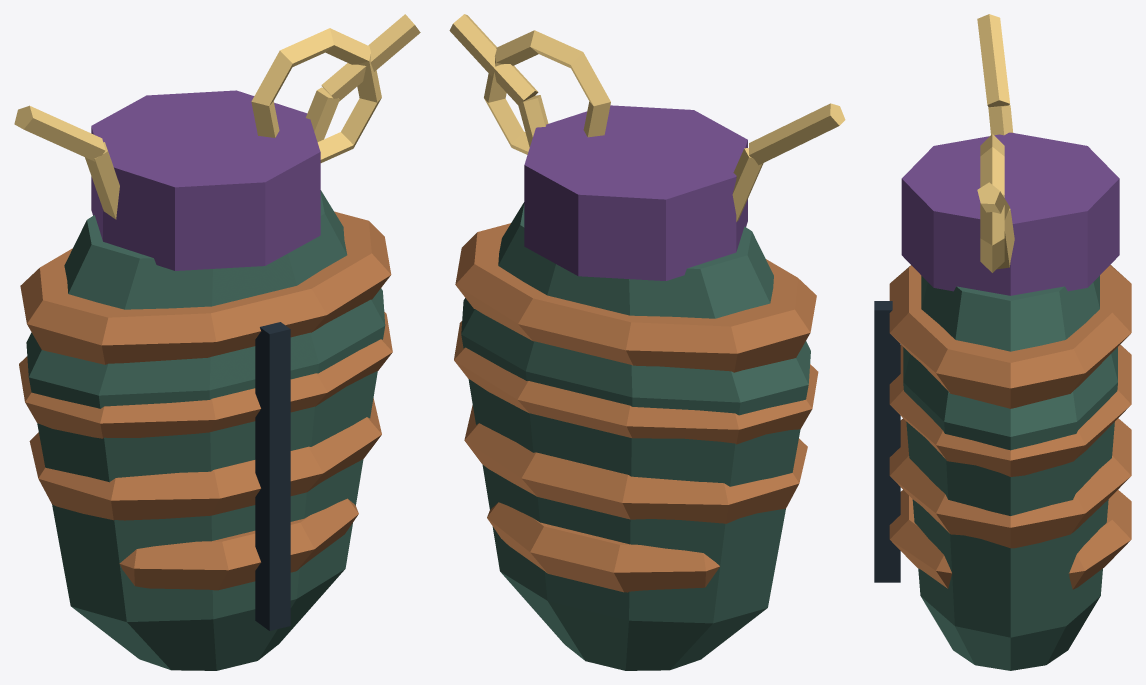
File: roach.glb
The picture shows the model from 3 angles, left to right: view 1: azimuth 30°, elevation 25°; view 2: azimuth 150°, elevation 25°; view 3: azimuth 270°, elevation 25°; orthographic projection. The views are drawn at different scales.
Parts seen in each view (by area): view 1: Carapace, Fuse cap.002, Amber plate.003, Amber plate.001, Amber plate.002, Wing seam, Amber plate, Pull ring.002, Antenna.003, Antenna.001, Antenna, Antenna.002; view 2: Carapace, Fuse cap.002, Amber plate.003, Amber plate.001, Amber plate.002, Amber plate, Pull ring.002, Antenna.001, Antenna.003, Antenna, Antenna.002; view 3: Carapace, Fuse cap.002, Amber plate.003, Amber plate.001, Amber plate.002, Wing seam, Amber plate, Pull ring.002, Antenna.001, Antenna.003, Antenna, Antenna.002.
Part boxes in pixels (bbox=[...]): Carapace: bbox=[26, 190, 385, 670]; Fuse cap.002: bbox=[91, 90, 320, 270]; Amber plate.003: bbox=[20, 211, 391, 364]; Amber plate.001: bbox=[29, 398, 381, 520]; Amber plate.002: bbox=[19, 312, 392, 438]; Wing seam: bbox=[255, 322, 290, 630]; Amber plate: bbox=[119, 498, 358, 590]; Pull ring.002: bbox=[251, 28, 381, 162]; Antenna.003: bbox=[321, 14, 420, 101]; Antenna.001: bbox=[14, 105, 105, 161]; Antenna: bbox=[85, 142, 119, 219]; Antenna.002: bbox=[306, 87, 339, 141]; Carapace: bbox=[461, 202, 810, 670]; Fuse cap.002: bbox=[524, 105, 747, 280]; Amber plate.003: bbox=[455, 223, 816, 372]; Amber plate.001: bbox=[464, 405, 807, 523]; Amber plate.002: bbox=[454, 321, 818, 444]; Amber plate: bbox=[487, 502, 719, 592]; Pull ring.002: bbox=[484, 30, 610, 154]; Antenna.001: bbox=[749, 103, 845, 165]; Antenna.003: bbox=[449, 14, 538, 106]; Antenna: bbox=[732, 148, 763, 221]; Antenna.002: bbox=[518, 95, 548, 147]; Carapace: bbox=[903, 275, 1117, 670]; Fuse cap.002: bbox=[901, 132, 1119, 295]; Amber plate.003: bbox=[889, 265, 1131, 408]; Amber plate.001: bbox=[889, 418, 1131, 548]; Amber plate.002: bbox=[889, 344, 1131, 476]; Wing seam: bbox=[874, 301, 900, 582]; Amber plate: bbox=[889, 490, 1131, 589]; Pull ring.002: bbox=[980, 134, 1004, 272]; Antenna.001: bbox=[977, 14, 1010, 107]; Antenna.003: bbox=[977, 182, 1009, 219]; Antenna: bbox=[988, 105, 1013, 135]; Antenna.002: bbox=[997, 208, 1014, 269].
Bounding box in the file's own units: 0.2103 × 0.2983 × 0.1274.
